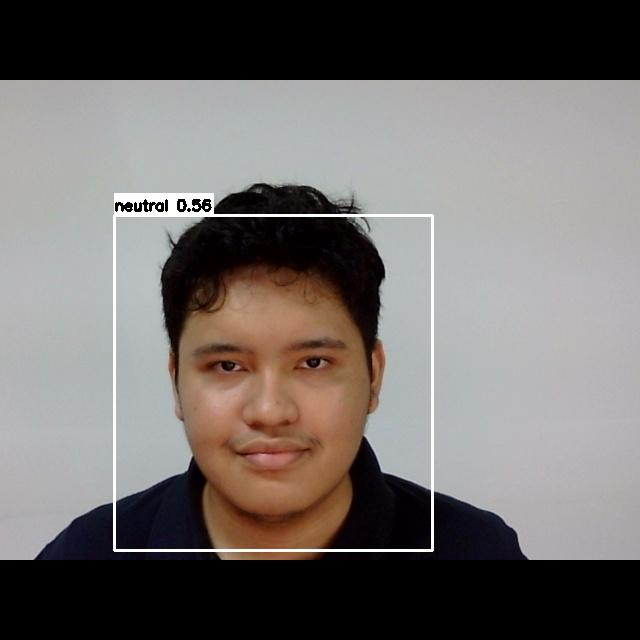Happy: (179, 323, 364, 489)
